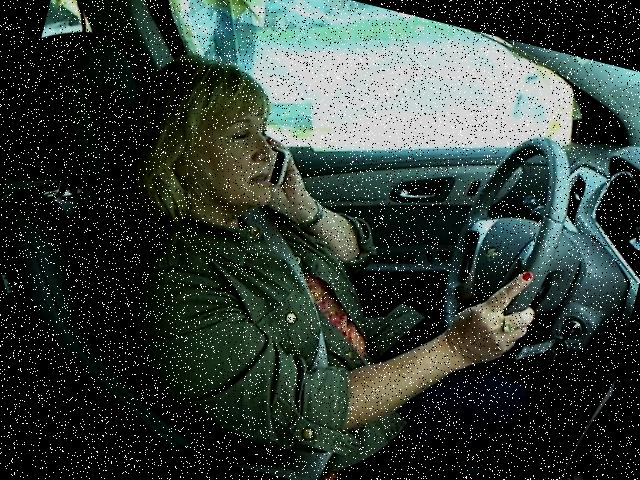c2 - Talking on the phone: (64, 23, 601, 479)
